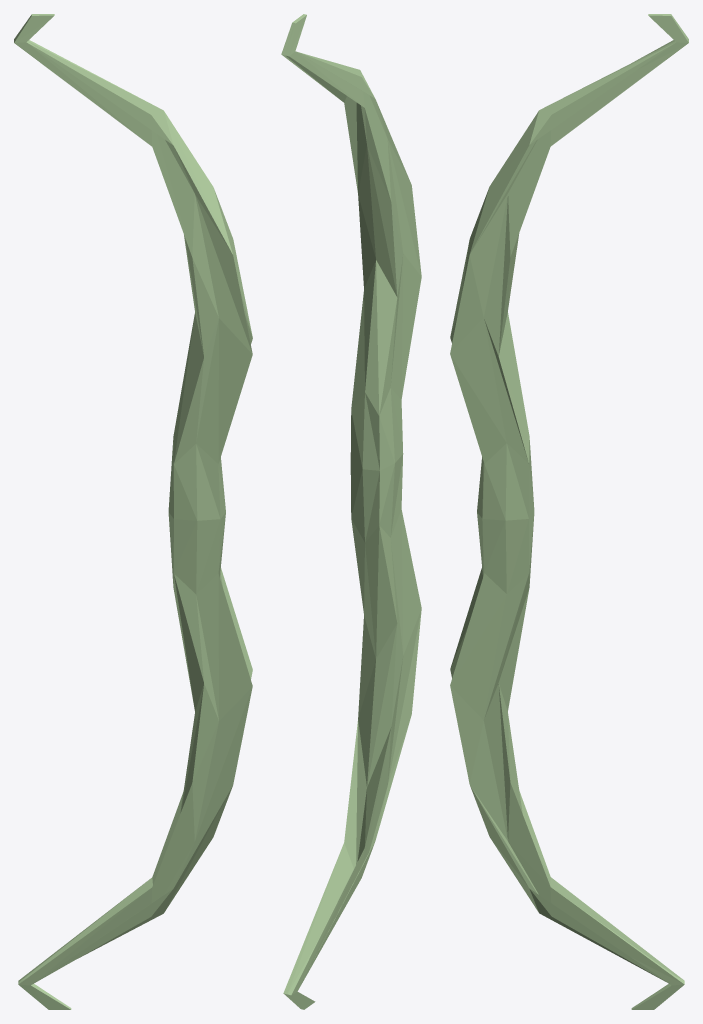
File: WillowShortbow.glb
3 renders of one model, left to right at view 1: azimuth 90°, elevation 25°; view 2: azimuth 150°, elevation 25°; view 3: azimuth 270°, elevation 25°, orthographic.
Visible parts, largest first — view 1: EQ_WillowShortbow; view 2: EQ_WillowShortbow; view 3: EQ_WillowShortbow.
Boxes of the visible parts, left/top/right/bottom form: EQ_WillowShortbow: left=14, top=14, right=252, bottom=1009; EQ_WillowShortbow: left=281, top=14, right=421, bottom=1009; EQ_WillowShortbow: left=450, top=14, right=688, bottom=1009.
Size of the model in its own units: 0.0393 by 1.03 by 0.2245.
